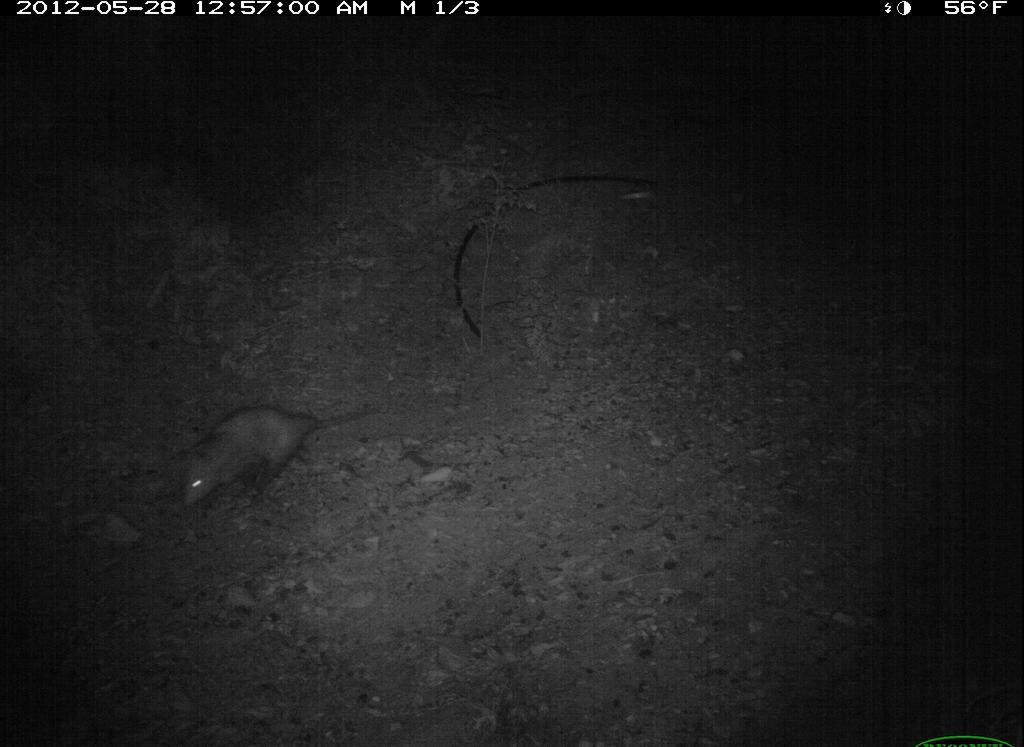opossum: (163, 387, 396, 524)
